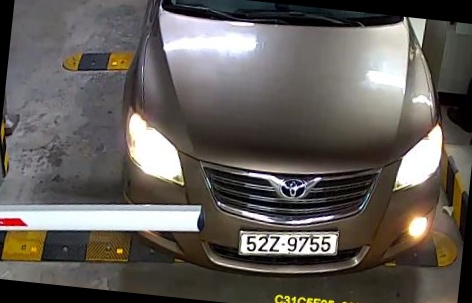plate: (235, 222, 351, 268)
